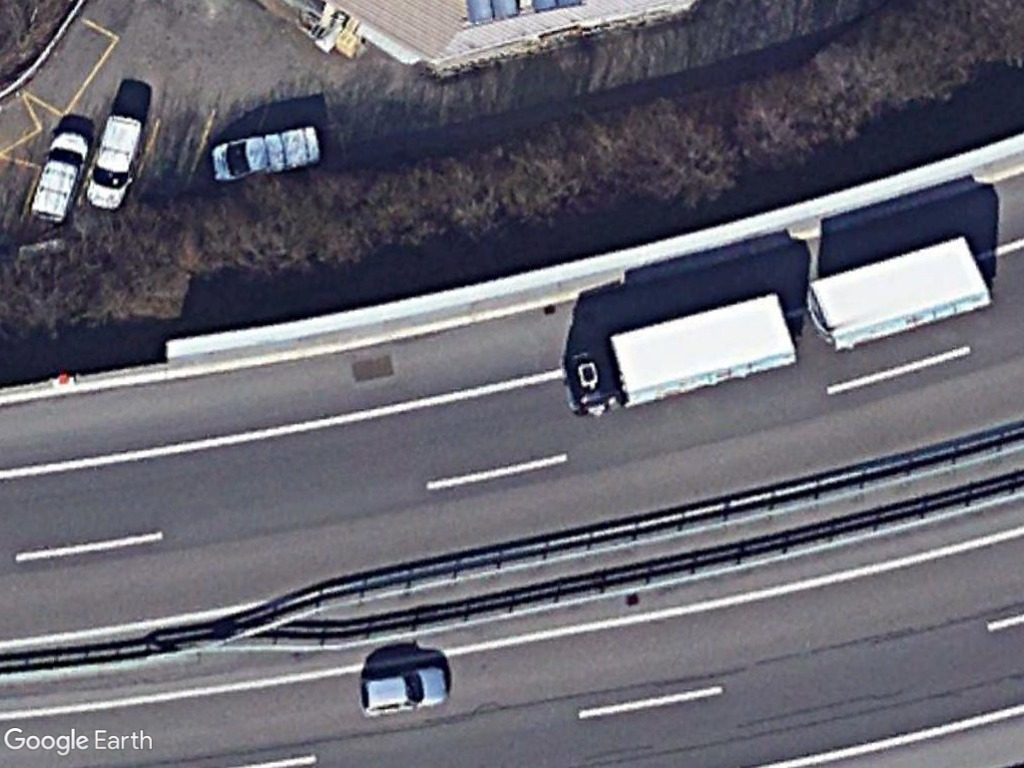car: (356, 664, 452, 720)
truck: (561, 290, 798, 419)
van: (209, 123, 319, 187), (29, 126, 93, 227), (83, 112, 147, 213)
